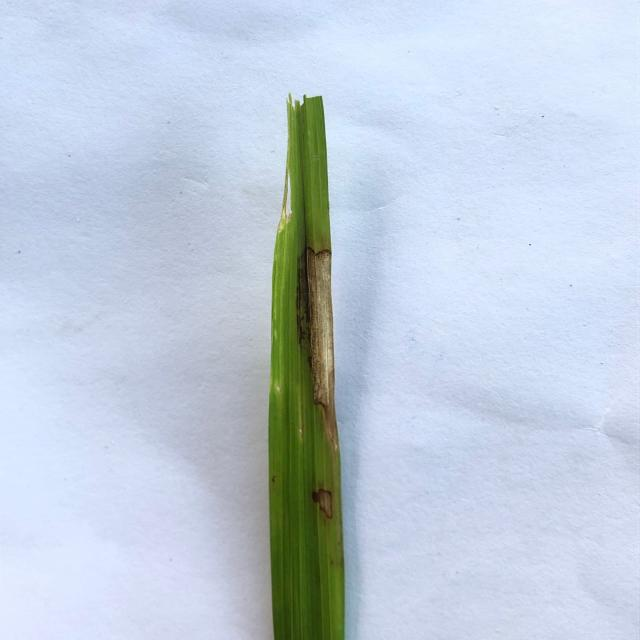Leaf Blight: (297, 247, 339, 456), (312, 489, 332, 520)
